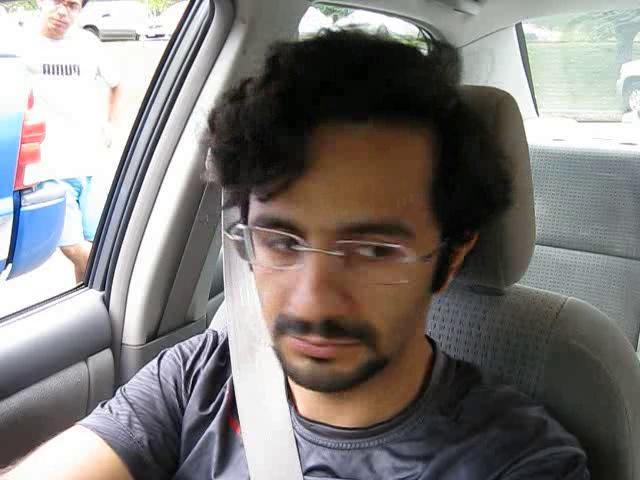no_yawn: (262, 311, 374, 367)
open_eyeL: (242, 218, 322, 269)
open_eyeR: (340, 229, 413, 274)
